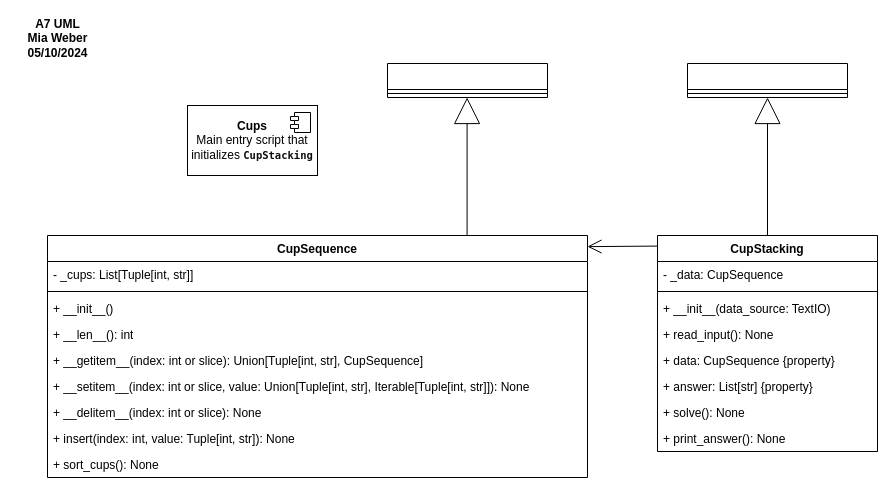
Some shapes in this 895 by 498 pixel diagram are drawn without their labels. The shapes that lost their labels are listed below. From the top down, each one's centre as x and y in pixels, then its label:
At point (467, 80): "abc.MutableSequence".
At point (767, 80): "Kattis(ABC)".
